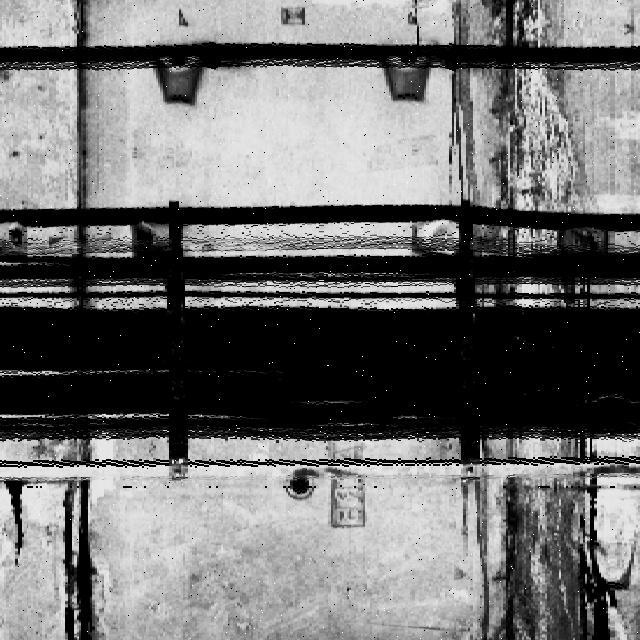leakage: (452, 1, 594, 310), (466, 437, 615, 640), (49, 483, 104, 639)
